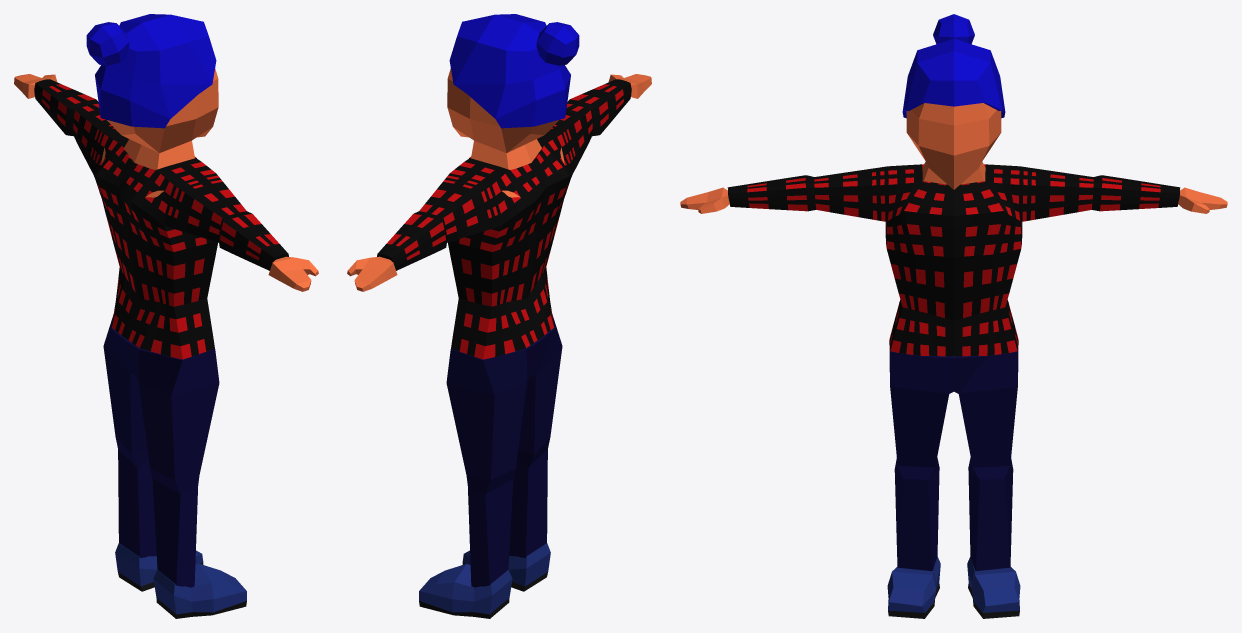
The model's file is char_rig.obj.
3 renders of one model, left to right at view 1: azimuth 30°, elevation 25°; view 2: azimuth 150°, elevation 25°; view 3: azimuth 270°, elevation 25°, orthographic. The views are drawn at different scales.
Parts seen in each view (by area): view 1: char_Cube.002; view 2: char_Cube.002; view 3: char_Cube.002.
Part boxes in pixels (x1,y1,x2,y2): char_Cube.002: [14, 14, 318, 618]; char_Cube.002: [347, 14, 651, 618]; char_Cube.002: [680, 14, 1227, 618].
Bounding box in the file's own units: 0.1116 × 0.4815 × 0.4319.
